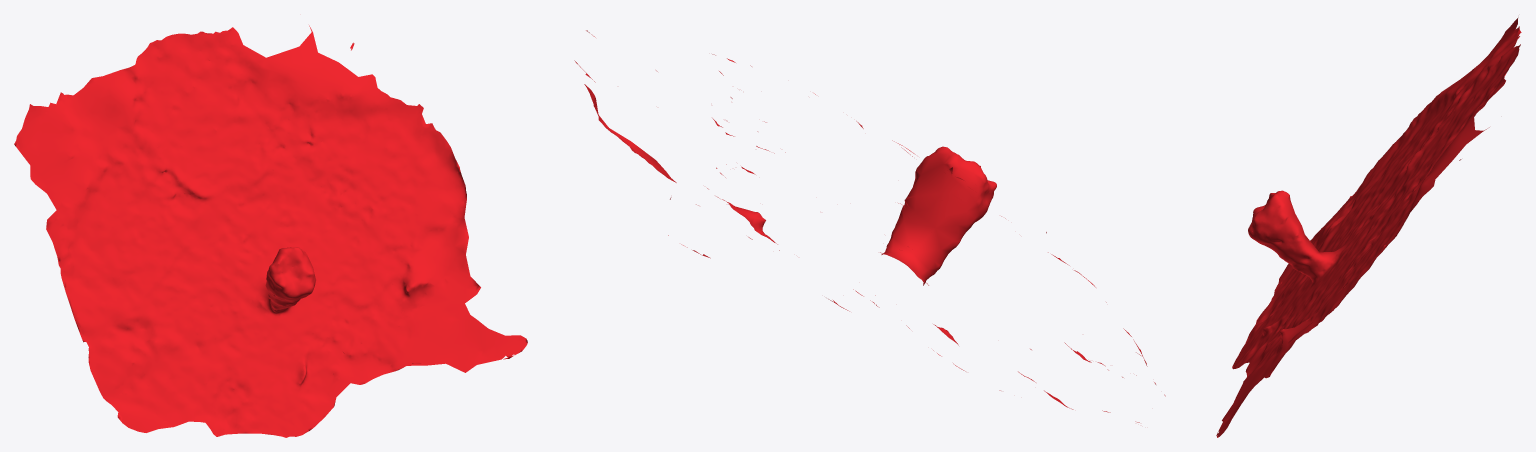
3 views of the same model, side by side, from view 1: azimuth 30°, elevation 25°; view 2: azimuth 150°, elevation 25°; view 3: azimuth 270°, elevation 25° (orthographic). The views are drawn at different scales.
Parts seen in each view (by area): view 1: Node; view 2: Node; view 3: Node.
Boxes of the visible parts, x1,y1,x2,y2 form: Node: [14, 25, 527, 437]; Node: [574, 30, 1165, 422]; Node: [1216, 17, 1521, 437].
Bounding box in the file's own units: 1.71 × 1.28 × 1.11.
Materials: 1 (1 with a texture image).
